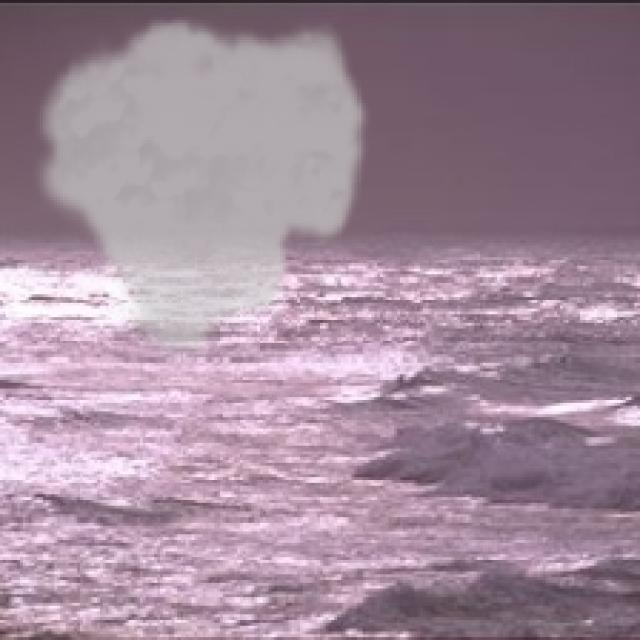Smoke: (29, 14, 372, 366)
